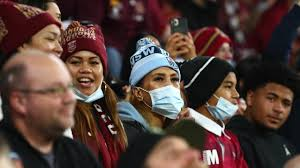with_incorrect_mask: (198, 74, 242, 119)
with_mask: (139, 68, 184, 114)
without_mask: (256, 79, 290, 130), (69, 54, 101, 95)
